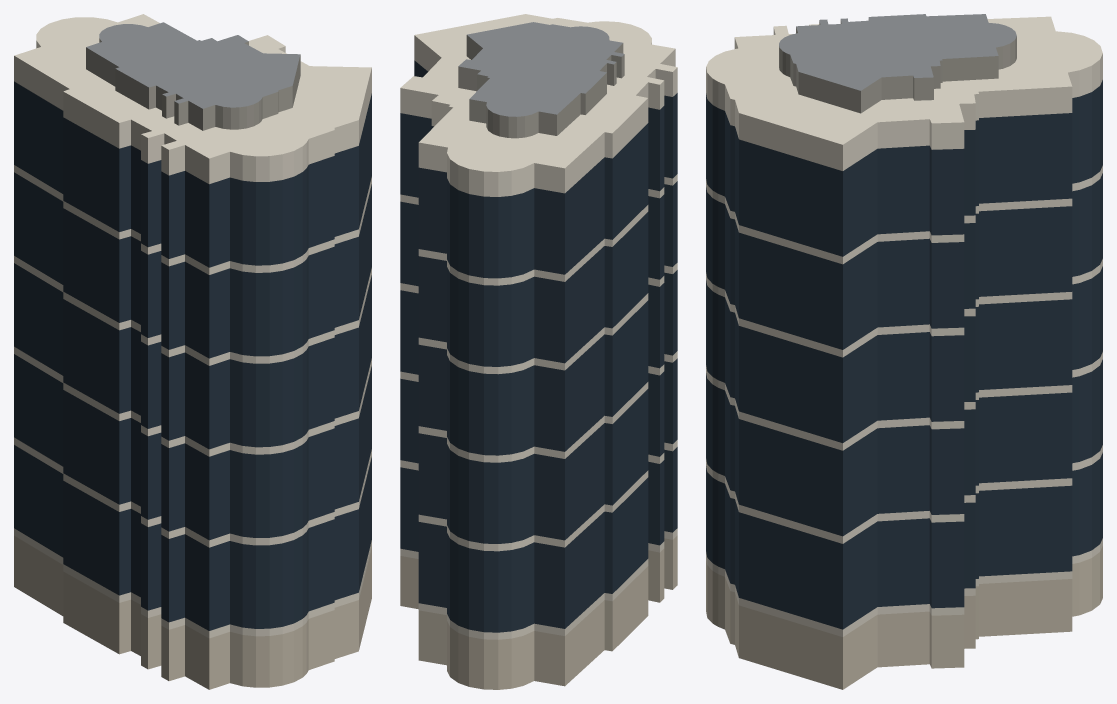
The model's file is bldg_w182464616.glb.
3 renders of one model, left to right at view 1: azimuth 30°, elevation 25°; view 2: azimuth 150°, elevation 25°; view 3: azimuth 270°, elevation 25°, orthographic. The views are drawn at different scales.
Visible parts, largest first — view 1: Tower; view 2: Tower; view 3: Tower.
Part boxes in pixels (x1,y1,x2,y2): Tower: (14, 14, 371, 689); Tower: (400, 14, 677, 689); Tower: (706, 14, 1102, 689).
Size of the model in its own units: 36.48 by 75.3 by 47.69.
